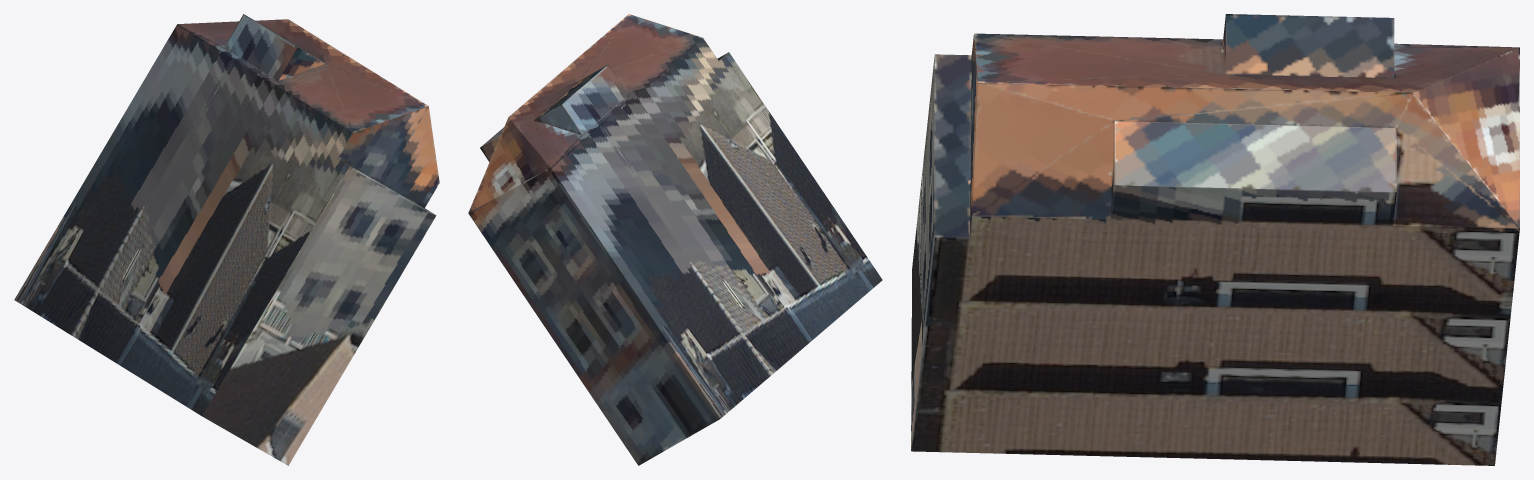
The picture shows the model from 3 angles, left to right: view 1: azimuth 30°, elevation 25°; view 2: azimuth 150°, elevation 25°; view 3: azimuth 270°, elevation 25°; orthographic projection. The views are drawn at different scales.
Parts seen in each view (by area): view 1: BAG_0599100000688753 (×7); view 2: BAG_0599100000688753 (×6); view 3: BAG_0599100000688753 (×6).
Boxes of the visible parts, box(x1,y1,x2,y2) form: BAG_0599100000688753 (×7): box(14, 14, 439, 465); BAG_0599100000688753 (×6): box(468, 14, 882, 465); BAG_0599100000688753 (×6): box(911, 14, 1519, 465).
Size of the model in its own units: 11.64 by 12.93 by 13.14.
Materials: 6 (6 with a texture image).
